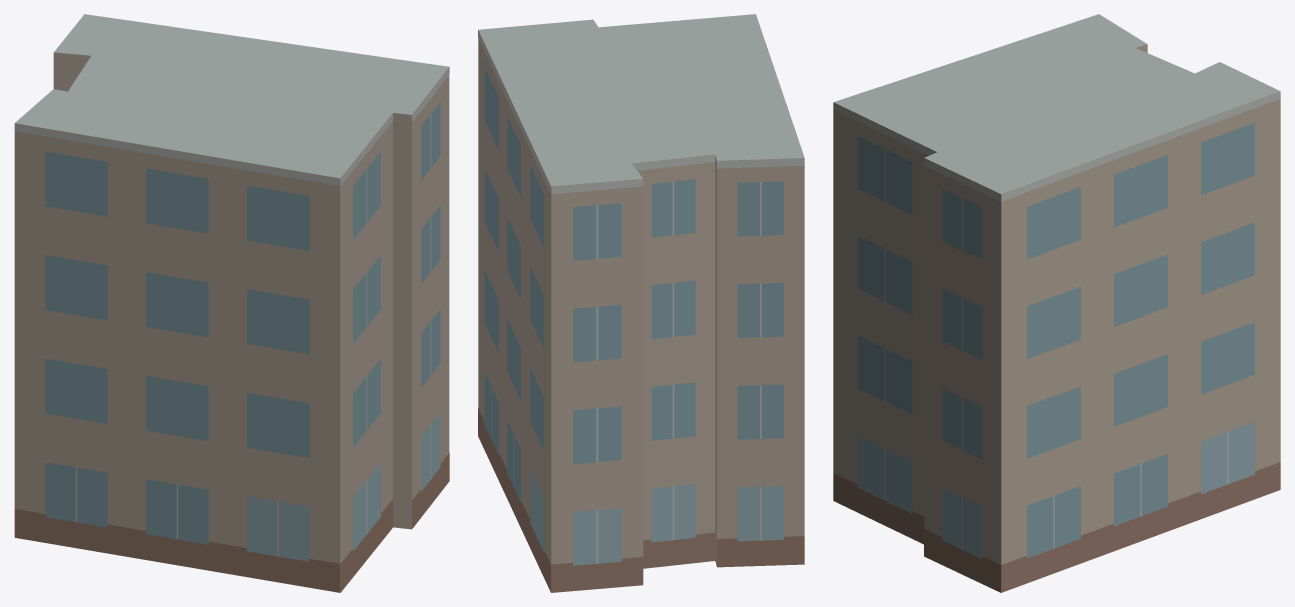
File: survey-upis-32675085.glb
3 renders of one model, left to right at view 1: azimuth 30°, elevation 25°; view 2: azimuth 150°, elevation 25°; view 3: azimuth 270°, elevation 25°, orthographic. The views are drawn at different scales.
Visible parts, largest first — view 1: survey-upis-32675085.tmp; view 2: survey-upis-32675085.tmp; view 3: survey-upis-32675085.tmp.
Boxes of the visible parts, x1,y1,x2,y2 form: survey-upis-32675085.tmp: (14, 14, 449, 592); survey-upis-32675085.tmp: (478, 14, 804, 592); survey-upis-32675085.tmp: (833, 14, 1280, 592).
Size of the model in its own units: 12.42 by 12.8 by 13.02.
